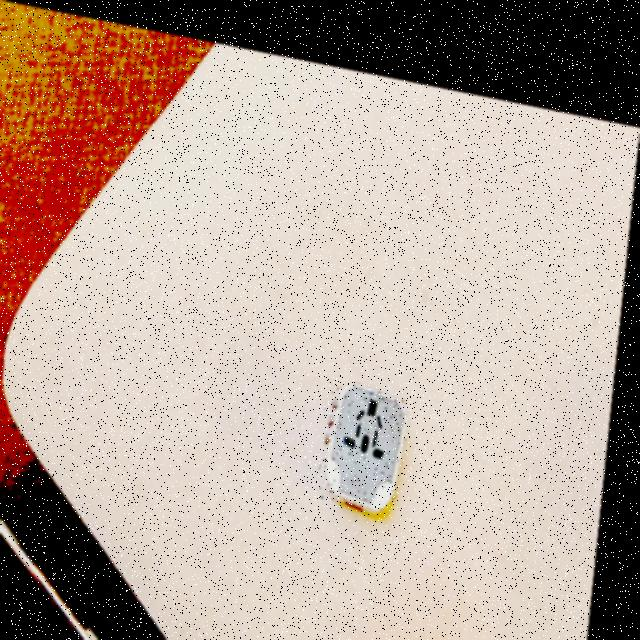adapter: (325, 361, 417, 500)
